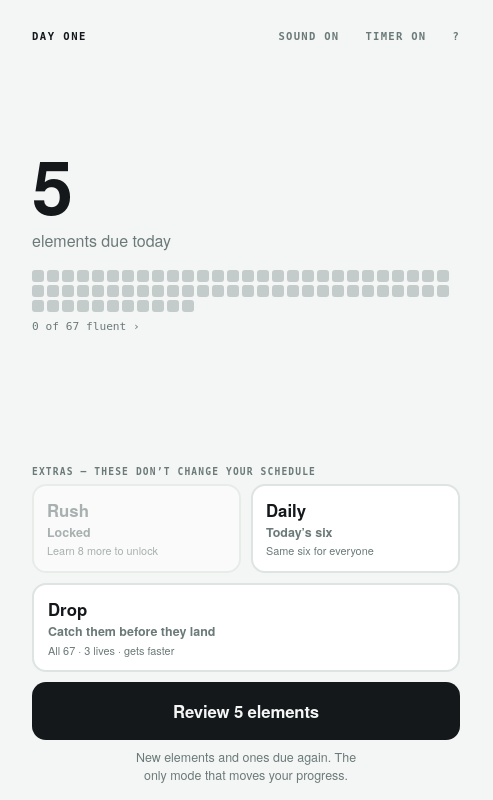
Test: Drop › clears an element on a correct tap and moves on
Click the button "Drop" at (68, 609), box [32, 583, 460, 672]
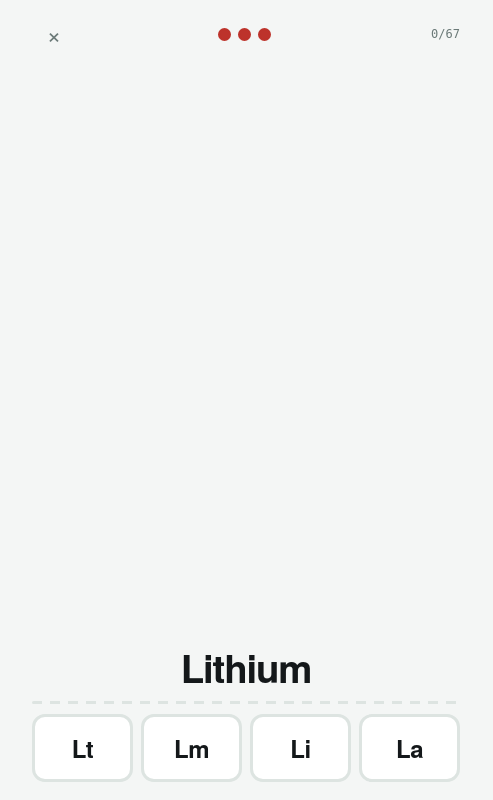
Click the button "Li" at (300, 748), box [250, 714, 351, 782]
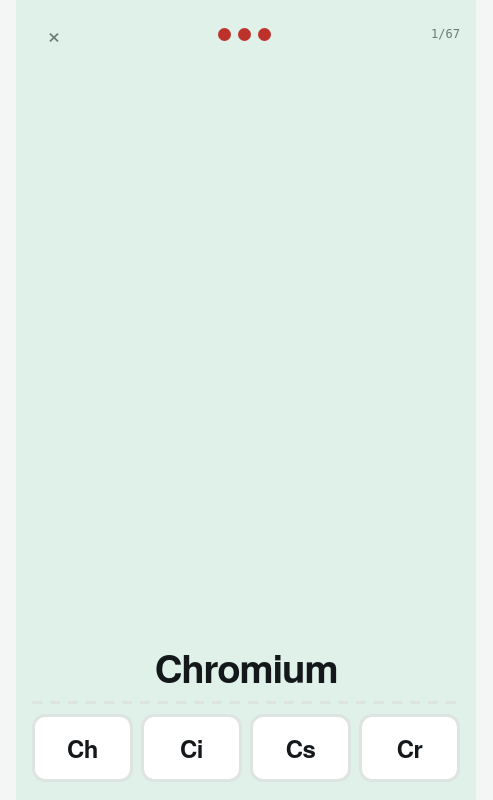
Result: the element named "3 lives left" is shown at [218, 28, 270, 40]
Result: the text "1/67" is shown at [431, 27, 460, 41]
